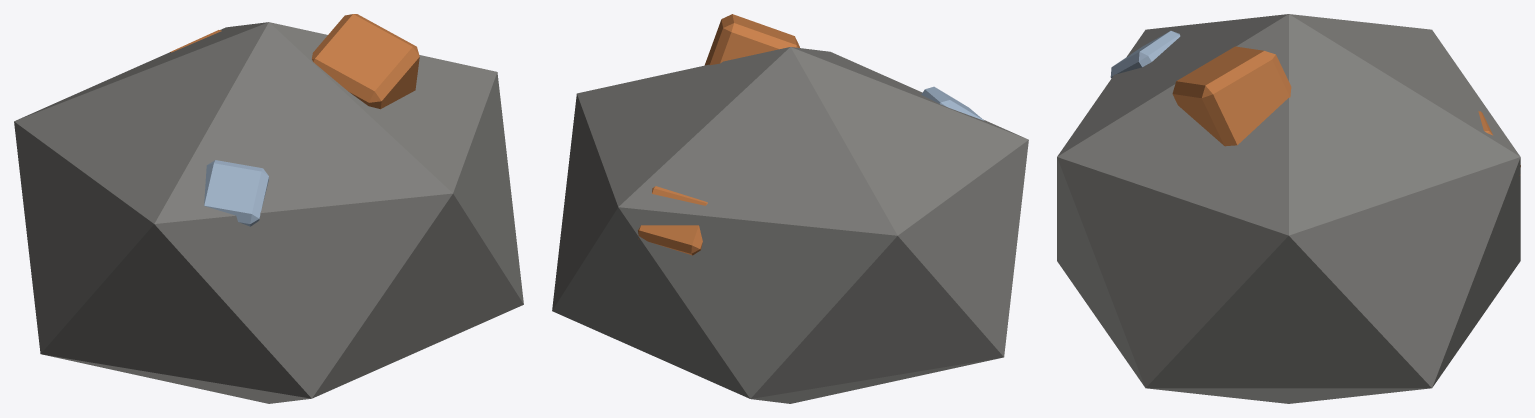
Rendered from ore.glb.
3 renders of one model, left to right at view 1: azimuth 30°, elevation 25°; view 2: azimuth 150°, elevation 25°; view 3: azimuth 270°, elevation 25°, orthographic. The views are drawn at different scales.
Visible parts, largest first — view 1: Rock, Vein1, Vein2; view 2: Rock, Vein1, Vein3, Vein2; view 3: Rock, Vein1, Vein2.
Boxes of the visible parts, x1,y1,x2,y2 form: Rock: (14, 22, 523, 403); Vein1: (312, 14, 419, 109); Vein2: (204, 160, 268, 226); Rock: (552, 47, 1028, 403); Vein1: (704, 14, 799, 65); Vein3: (638, 186, 707, 255); Vein2: (921, 86, 984, 120); Rock: (1057, 14, 1520, 403); Vein1: (1172, 46, 1291, 146); Vein2: (1110, 31, 1180, 78).
Bounding box in the file's own units: 0.8264 × 0.66 × 0.7116.
